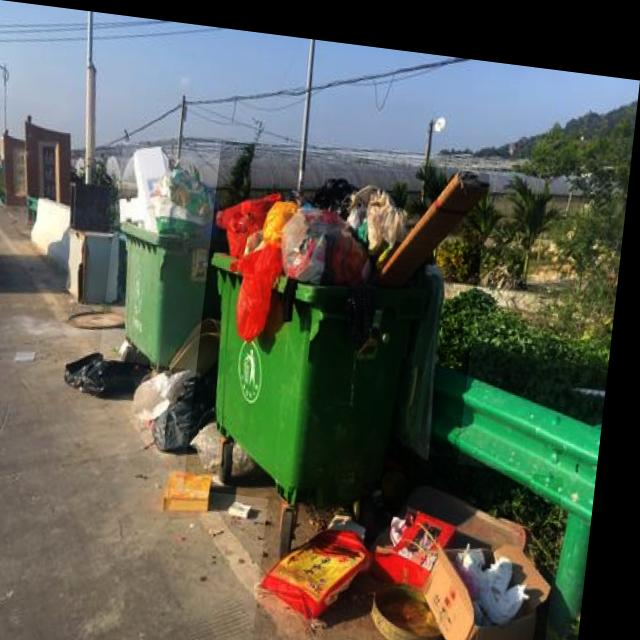garbage: (266, 433, 573, 640), (59, 295, 280, 516)
overflow: (194, 134, 492, 509), (107, 138, 240, 366)
